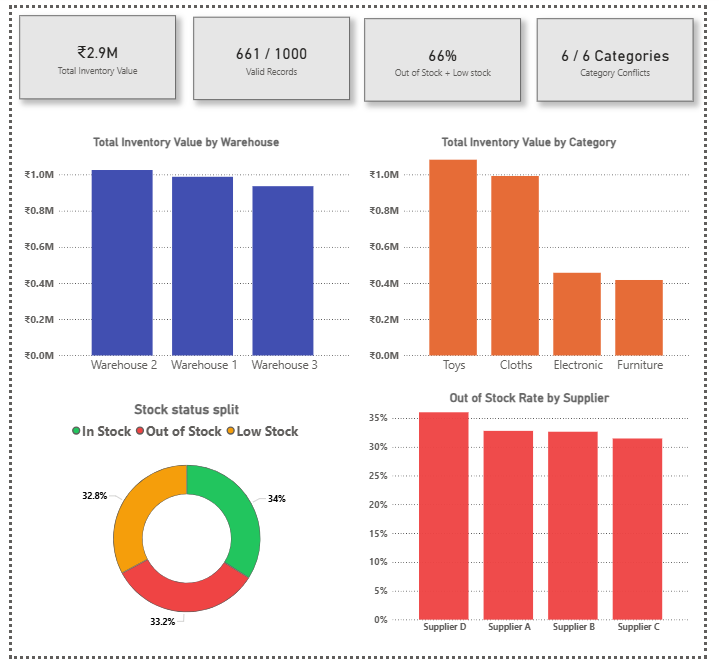

What the dashboard file says about the page in this screenshot:
{"tool":"powerbi","page":{"name":"Page 1","canvas":[1280,1200],"ordinal":0},"visuals":[{"type":"card","fields":{"Values":["ware.Total Inventory Value"]},"box":[15.1,15.1,289.1,155],"z":0},{"type":"card","fields":{"Values":["ware.Valid Records"]},"box":[336.4,17,289.1,153.1],"z":1000},{"type":"card","fields":{"Values":["ware.Out of Stock + Low stock"]},"box":[653.9,18.9,289.1,153.1],"z":2000},{"type":"card","fields":{"Values":["ware.Category Conflict"]},"box":[971.3,18.9,289.1,153.1],"z":3000},{"type":"clusteredColumnChart","fields":{"Category":["ware.Warehouse"],"Y":["ware.Total Inventory Value"]},"box":[16,236,612,450],"z":4000},{"type":"clusteredColumnChart","fields":{"Category":["ware.Category"],"Y":["ware.Total Inventory Value"]},"box":[656,236,604,450],"z":5000},{"type":"donutChart","title":"Stock status split","fields":{"Category":["ware.stock_status"],"Y":["CountNonNull(ware.Product_ID)"]},"box":[16.7,726.7,613.3,440],"z":6000},{"type":"clusteredColumnChart","fields":{"Category":["ware.Supplier"],"Y":["ware.Out of Stock Rate"]},"box":[655,707.5,605,460],"z":7000}]}

Visuals, with their boxes in screenshot pixels (x1, y1, x2, y2), scaled from the page's 1280x1200 canvas onto the 719x664 screenshot:
card - ware.Total Inventory Value: Rect(8, 8, 171, 94)
card - ware.Valid Records: Rect(189, 9, 351, 94)
card - ware.Out of Stock + Low stock: Rect(367, 10, 530, 95)
card - ware.Category Conflict: Rect(546, 10, 708, 95)
clusteredColumnChart - ware.Warehouse x ware.Total Inventory Value: Rect(9, 131, 353, 380)
clusteredColumnChart - ware.Category x ware.Total Inventory Value: Rect(368, 131, 708, 380)
"Stock status split" donutChart: Rect(9, 402, 354, 646)
clusteredColumnChart - ware.Supplier x ware.Out of Stock Rate: Rect(368, 391, 708, 646)
